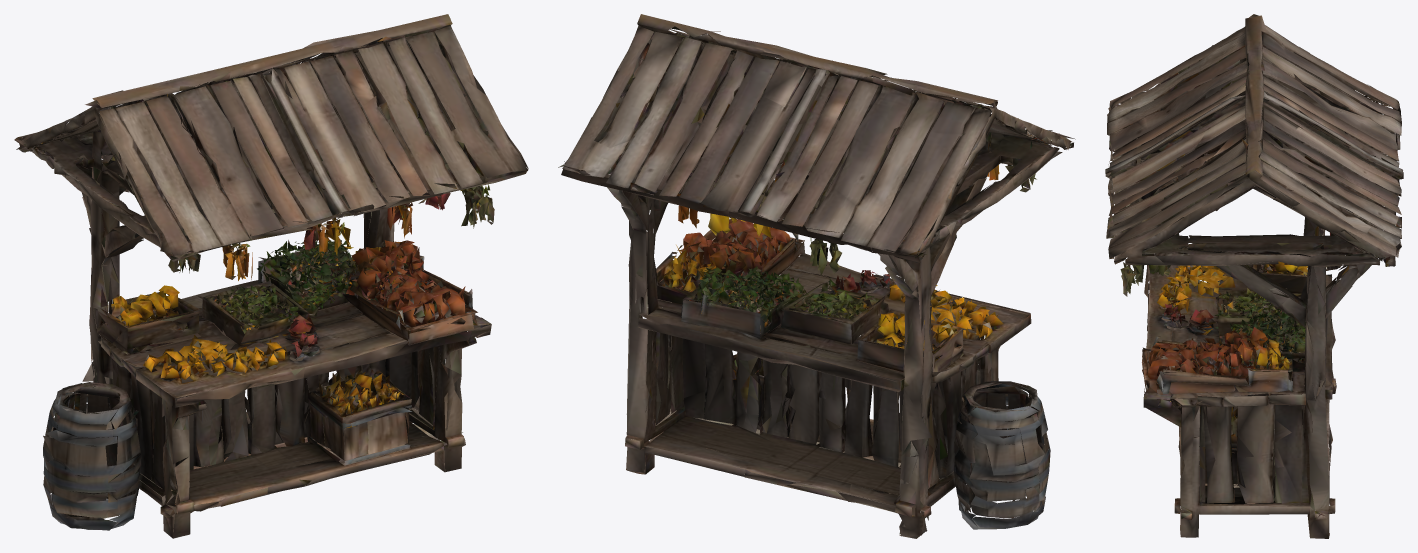
Rendered from Rustic_Market_Stall_town.glb.
The picture shows the model from 3 angles, left to right: view 1: azimuth 30°, elevation 25°; view 2: azimuth 150°, elevation 25°; view 3: azimuth 270°, elevation 25°; orthographic projection. The views are drawn at different scales.
Visible parts, largest first — view 1: Rustic_Market_Stall; view 2: Rustic_Market_Stall; view 3: Rustic_Market_Stall.
Boxes of the visible parts, box(x1,y1,x2,y2) form: Rustic_Market_Stall: box(14, 14, 528, 538); Rustic_Market_Stall: box(558, 14, 1075, 538); Rustic_Market_Stall: box(1105, 14, 1403, 538).
Bounding box in the file's own units: 1.94 × 1.9 × 1.35.
1 material, 1 textured.
